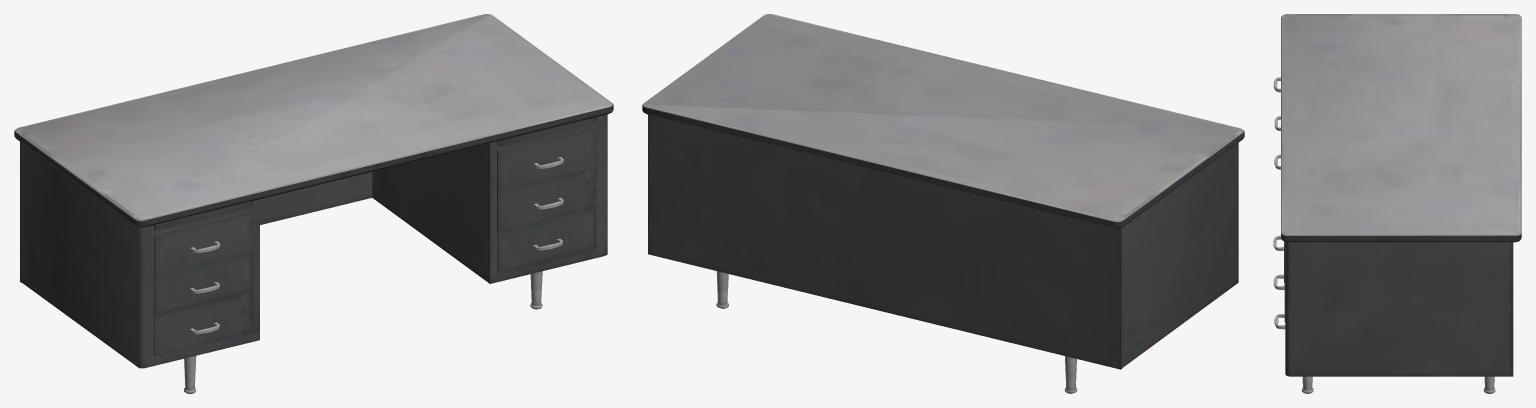
File: metal_office_desk.glb
3 renders of one model, left to right at view 1: azimuth 30°, elevation 25°; view 2: azimuth 150°, elevation 25°; view 3: azimuth 270°, elevation 25°, orthographic. The views are drawn at different scales.
Parts seen in each view (by area): view 1: metal_office_desk_drawer_06; view 2: metal_office_desk_drawer_06; view 3: metal_office_desk_drawer_06.
Boxes of the visible parts, <box> form: metal_office_desk_drawer_06: <box>14,14,613,393</box>; metal_office_desk_drawer_06: <box>642,14,1244,393</box>; metal_office_desk_drawer_06: <box>1273,14,1521,393</box>.
Size of the model in its own units: 2 by 0.7867 by 0.9469.
1 material, 1 textured.
